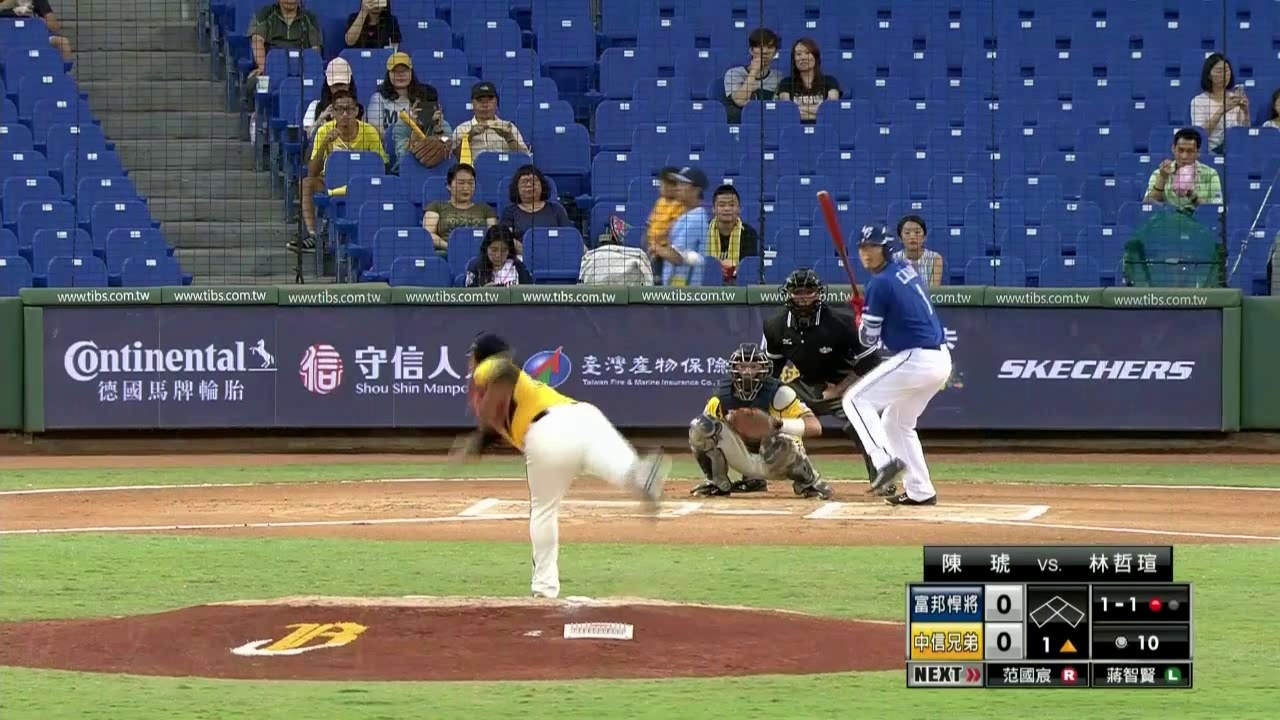ball: (688, 256, 696, 262)
base: (1028, 590, 1086, 631)
bat: (815, 190, 858, 302)
out: (1145, 592, 1183, 614)
score1: (984, 589, 1023, 619)
score2: (989, 627, 1015, 654)
session: (1033, 633, 1084, 659)
strikeball: (1098, 592, 1143, 619)
total: (1112, 630, 1161, 656)
